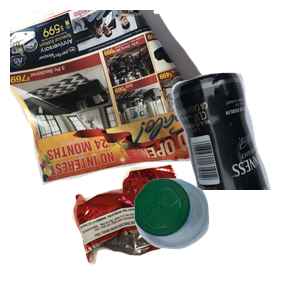glass: (106, 70, 300, 250)
paper: (10, 10, 241, 188)
plastic: (132, 176, 300, 300)
trash: (70, 162, 257, 300)
